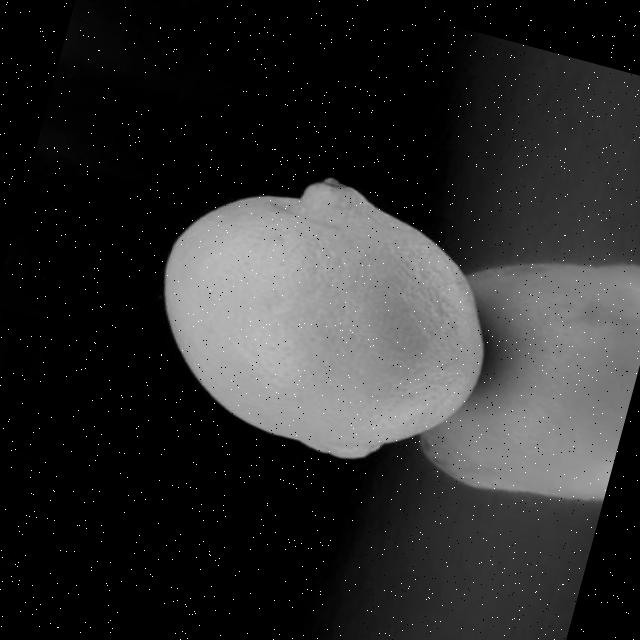Ripe: (121, 133, 524, 493)
